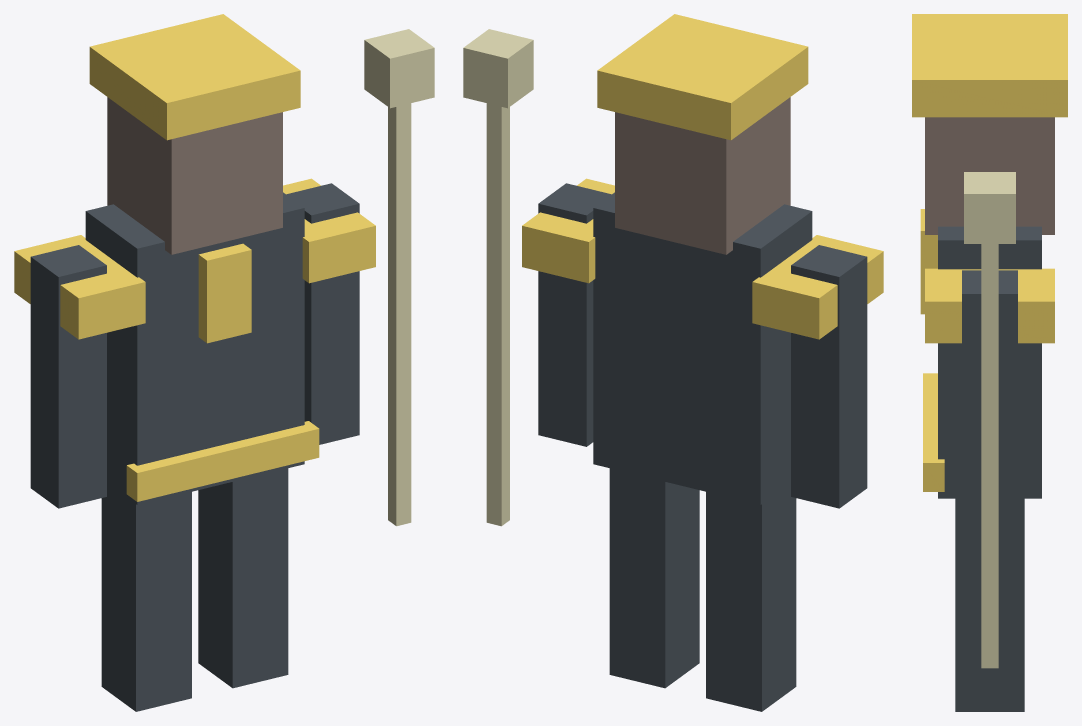
The model's file is 08_lio_voxmere_mechanist_near_surface.glb.
The picture shows the model from 3 angles, left to right: view 1: azimuth 30°, elevation 25°; view 2: azimuth 150°, elevation 25°; view 3: azimuth 270°, elevation 25°; orthographic projection.
Parts seen in each view (by area): view 1: Lio Voxmere, Mechanist near Surface; view 2: Lio Voxmere, Mechanist near Surface; view 3: Lio Voxmere, Mechanist near Surface.
Part boxes in pixels (bbox=[...]): Lio Voxmere, Mechanist near Surface: bbox=[14, 14, 434, 711]; Lio Voxmere, Mechanist near Surface: bbox=[463, 14, 883, 711]; Lio Voxmere, Mechanist near Surface: bbox=[912, 14, 1067, 711].
Bounding box in the file's own units: 1.07 × 1.69 × 0.3803.
